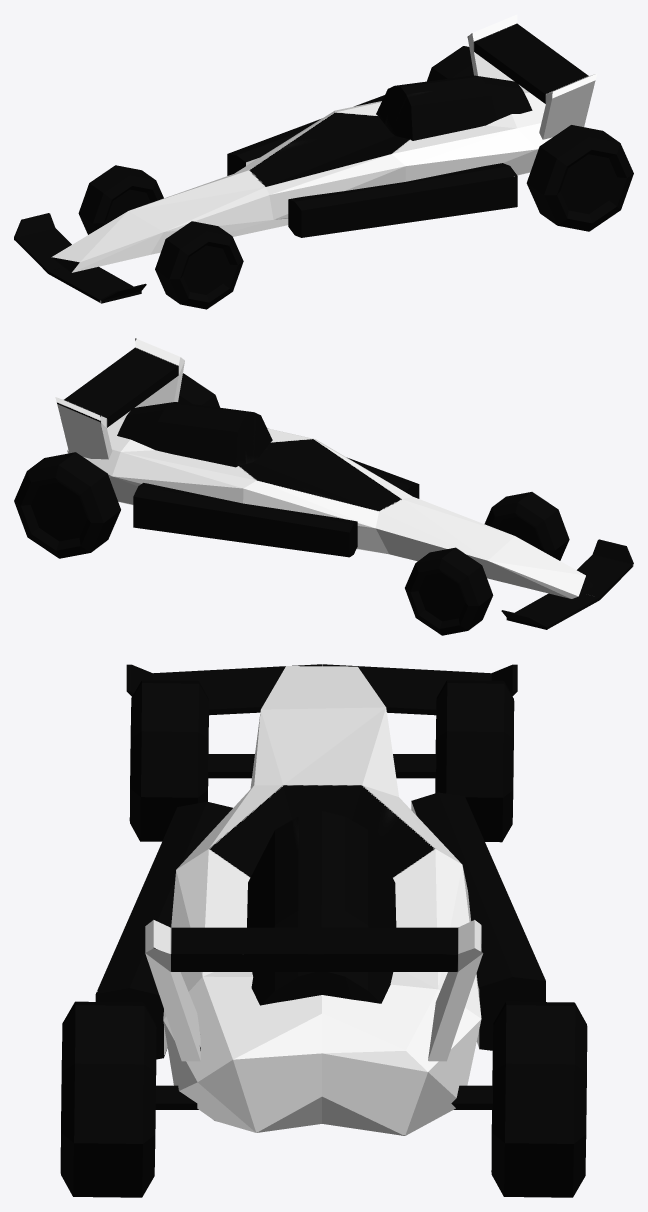
Rendered from f1_car.fbx.
The picture shows the model from 3 angles, top to bottom: view 1: azimuth 30°, elevation 25°; view 2: azimuth 150°, elevation 25°; view 3: azimuth 270°, elevation 25°; orthographic projection. The views are drawn at different scales.
Parts seen in each view (by area): view 1: Cylinder.001, back l.001, front l.001, front r.001, back r.001; view 2: Cylinder.001, back r.001, front r.001, front l.001, back l.001; view 3: Cylinder.001, back l.001, back r.001, front l.001, front r.001.
Part boxes in pixels (box(x1,y1,x2,y2)): Cylinder.001: box(14, 14, 597, 303); back l.001: box(526, 125, 633, 231); front l.001: box(155, 221, 243, 309); front r.001: box(78, 165, 163, 234); back r.001: box(427, 46, 473, 81); Cylinder.001: box(55, 338, 633, 629); back r.001: box(14, 452, 120, 558); front r.001: box(405, 547, 493, 635); front l.001: box(484, 492, 569, 560); back l.001: box(178, 373, 219, 407); Cylinder.001: box(95, 664, 545, 1135); back l.001: box(60, 1001, 156, 1197); back r.001: box(491, 1001, 587, 1197); front l.001: box(129, 680, 208, 841); front r.001: box(435, 680, 514, 842).
Size of the model in its own units: 2595 by 653 by 1132.
